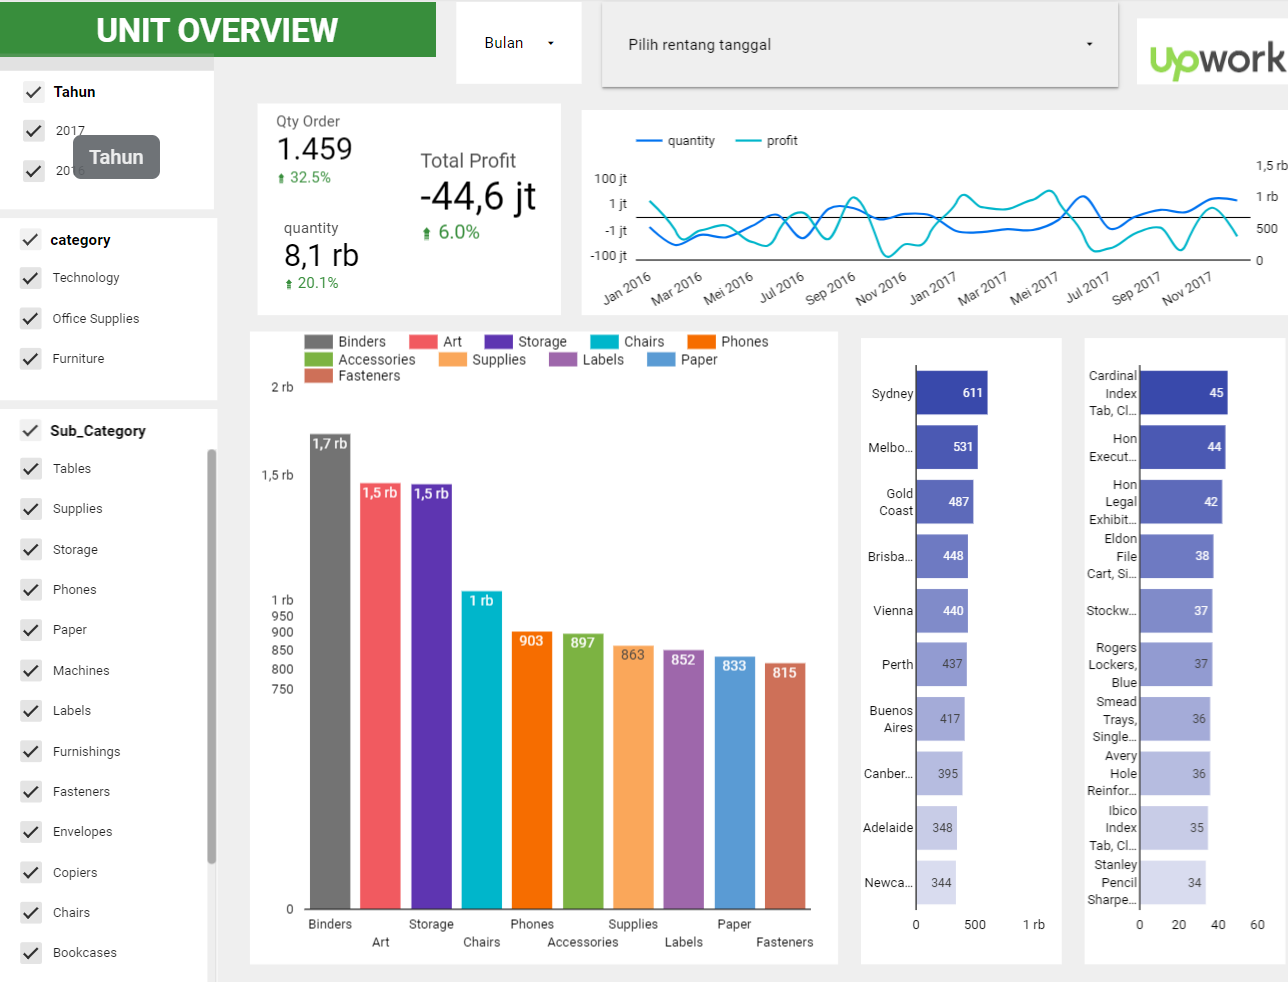

What the dashboard file says about the page in this screenshot:
{"tool":"powerbi","page":{"name":"SO by Unit","canvas":[1280,720],"ordinal":1},"visuals":[{"type":"textbox","box":[11,26.2,286.3,68.8],"z":0},{"type":"slicer","fields":{"Values":["FACT_CustTrx.category"]},"box":[11,199.6,199.6,104.6],"z":1000},{"type":"lineChart","title":"Sales by Month","fields":{"Category":["FACT_CustTrx.Order Date.Variasi.Hierarki Tanggal.Bulan"],"Y":["Sum(FACT_CustTrx.quantity)"],"Y2":["Sum(FACT_CustTrx.profit)"]},"box":[743.2,106,521.6,264.3],"z":2000},{"type":"slicer","fields":{"Values":["FACT_CustTrx.Sub-Category"]},"box":[11,316.6,199.6,377.1],"z":3000},{"type":"slicer","fields":{"Values":["FACT_CustTrx.Order Date.Variasi.Hierarki Tanggal.Tahun"]},"box":[11,106,199.6,79.8],"z":4000},{"type":"slicer","fields":{"Values":["FACT_CustTrx.Order Date.Variasi.Hierarki Tanggal.Bulan"]},"box":[297.3,26.2,967.6,68.8],"z":5000},{"type":"clusteredBarChart","title":"Sales by City","fields":{"Category":["FACT_CustTrx.city"],"Y":["Sum(FACT_CustTrx.quantity)"]},"box":[743.2,379.9,261.5,313.8],"z":6000},{"type":"donutChart","title":"Sales by Category","fields":{"Category":["FACT_CustTrx.Sub-Category"],"Y":["Sum(FACT_CustTrx.quantity)"]},"box":[217.5,264.3,518.9,429.4],"z":7000},{"type":"clusteredBarChart","title":"Sales by Product","fields":{"Category":["FACT_CustTrx.Product Name"],"Y":["Sum(FACT_CustTrx.quantity)"]},"box":[1014.4,379.9,250.5,313.8],"z":8000},{"type":"BBED0A4D4D8D44CE93CF2DAFADEE466C","fields":{"actual":["Sum(FACT_CustTrx.quantity)"]},"box":[217.5,106,518.9,148.6],"z":9000}]}

Visuals, with their boxes on the page's 1280x720 design canvas (x1, y1, x2, y2). These are canvas units, not pixel positions in the 1288x982 screenshot, which may show the page scaled, cropped or inside an application window:
textbox: 11, 26, 297, 95
slicer - FACT_CustTrx.category: 11, 200, 211, 304
"Sales by Month" lineChart: 743, 106, 1265, 370
slicer - FACT_CustTrx.Sub-Category: 11, 317, 211, 694
slicer - FACT_CustTrx.Order Date.Variasi.Hierarki Tanggal.Tahun: 11, 106, 211, 186
slicer - FACT_CustTrx.Order Date.Variasi.Hierarki Tanggal.Bulan: 297, 26, 1265, 95
"Sales by City" clusteredBarChart: 743, 380, 1005, 694
"Sales by Category" donutChart: 218, 264, 736, 694
"Sales by Product" clusteredBarChart: 1014, 380, 1265, 694
BBED0A4D4D8D44CE93CF2DAFADEE466C - Sum(FACT_CustTrx.quantity): 218, 106, 736, 255
